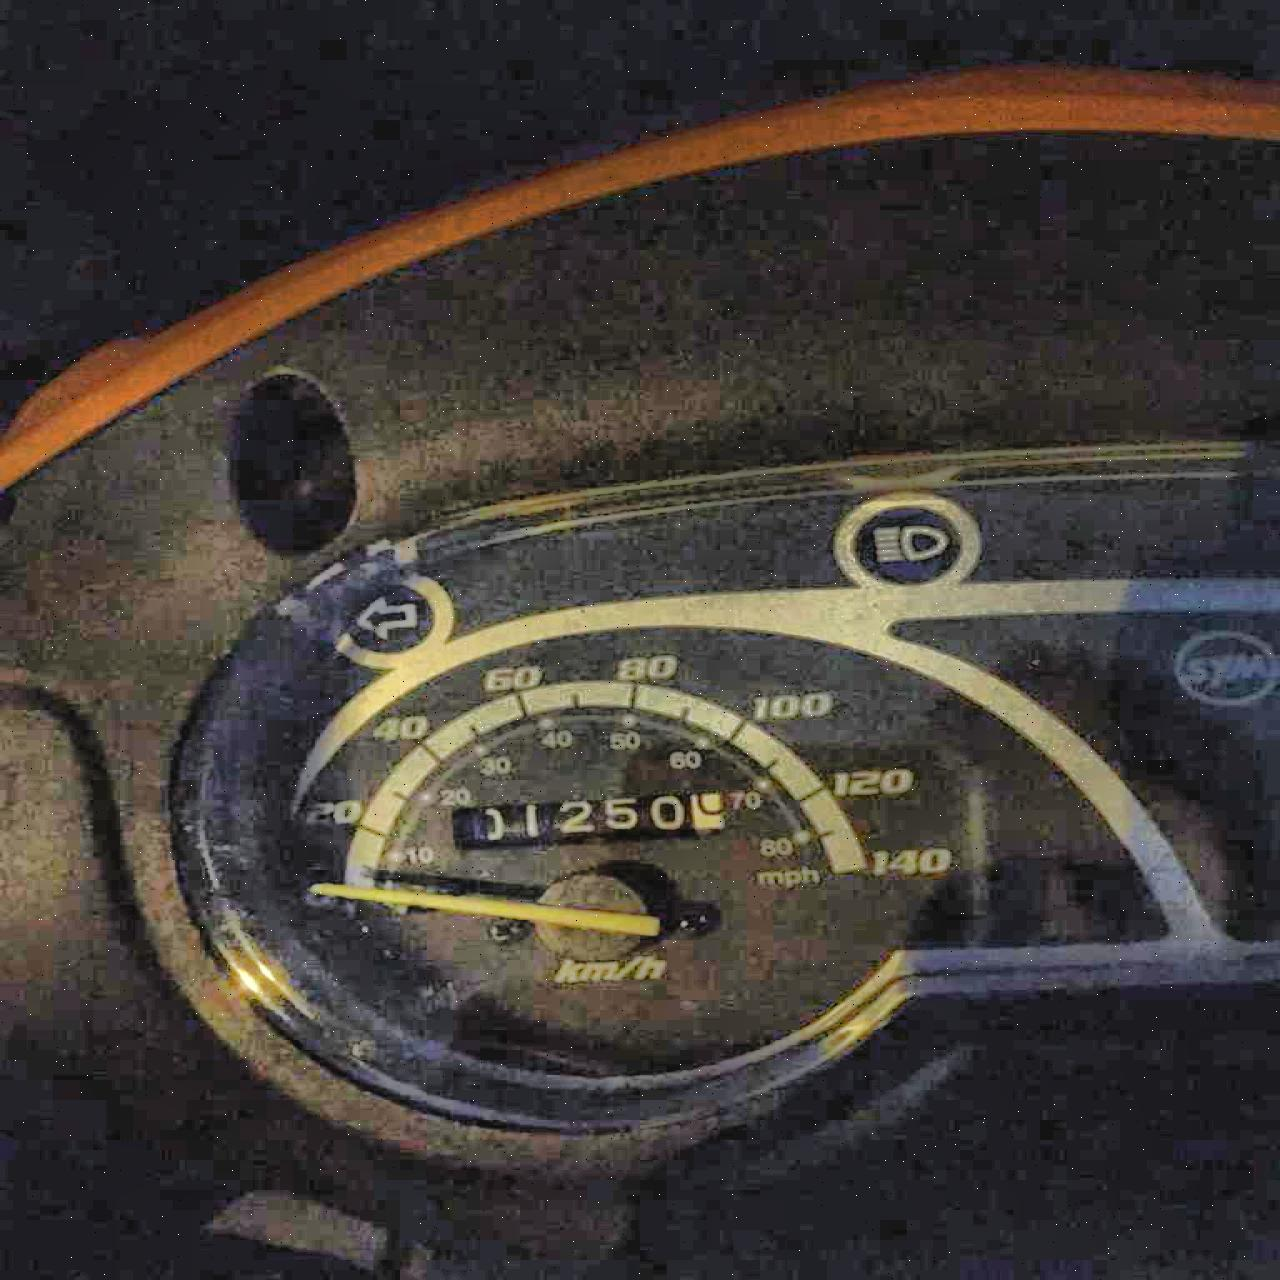0: (648, 794, 682, 835), (474, 806, 509, 840), (692, 788, 726, 821), (454, 789, 471, 803)
1: (519, 799, 543, 839)
2: (558, 797, 593, 835)
5: (601, 795, 639, 830)
odometer: (454, 789, 730, 846)
